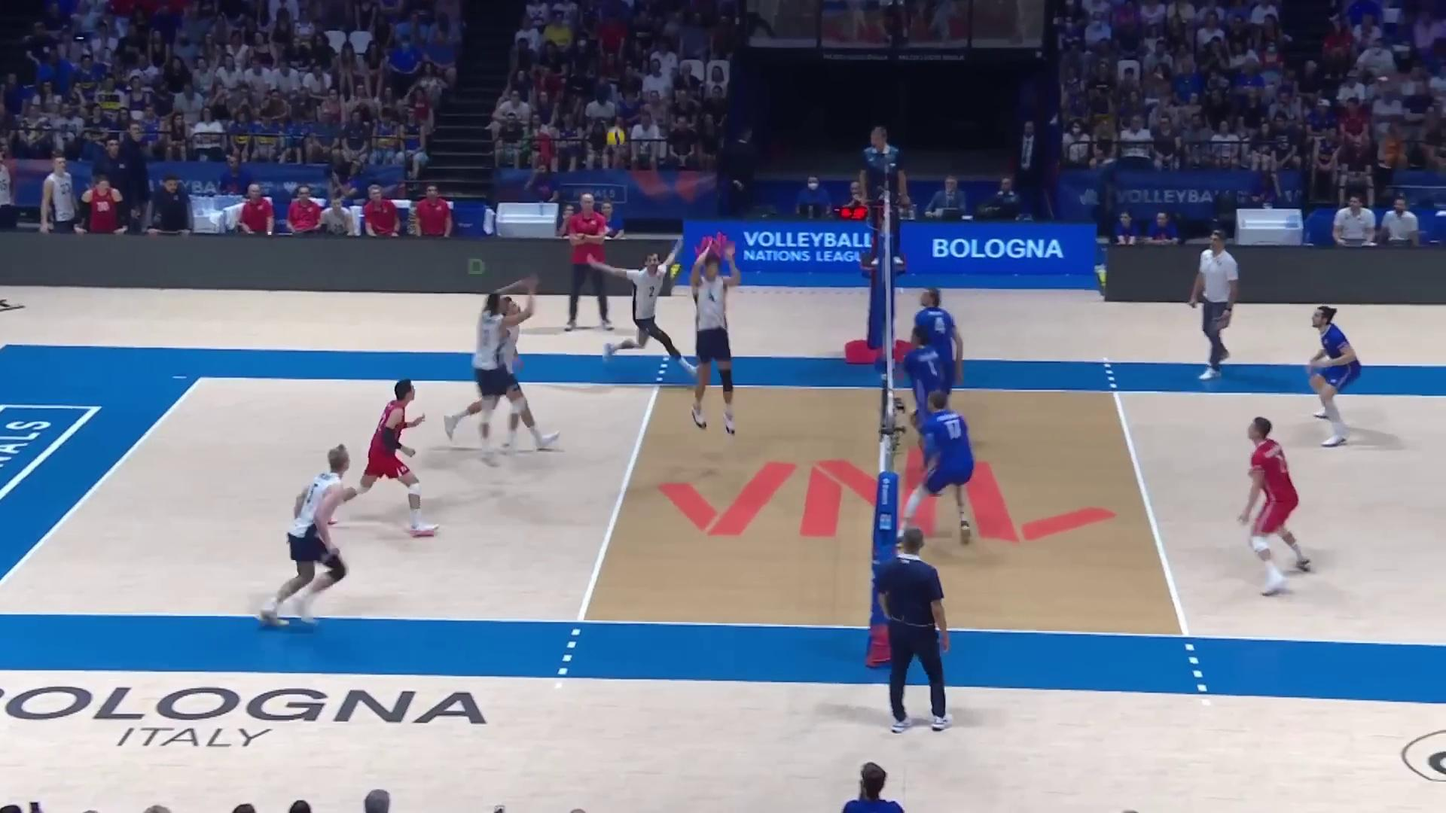player: (450, 296, 559, 458), (265, 446, 356, 626), (1234, 417, 1311, 595), (358, 382, 443, 541), (594, 254, 704, 376), (902, 385, 983, 546), (474, 289, 537, 464), (683, 241, 736, 436), (904, 326, 960, 492), (1302, 303, 1359, 449), (912, 288, 966, 410)
refree: (868, 530, 946, 731), (855, 129, 904, 271)
